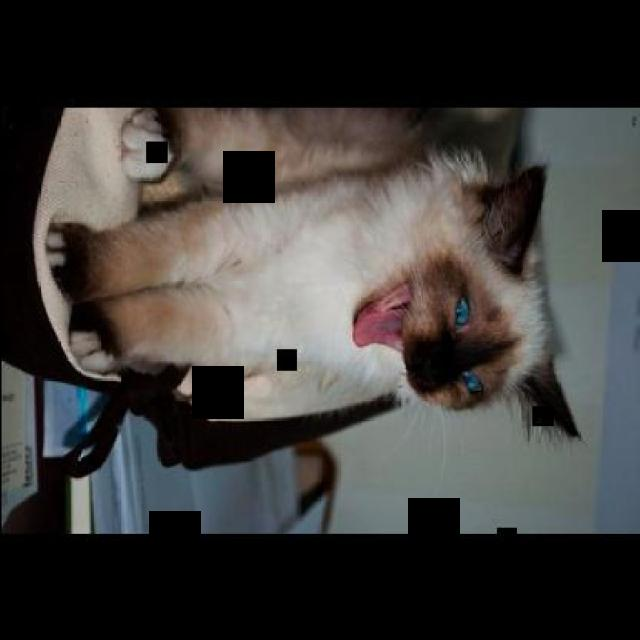unauthorized: (43, 109, 583, 448), (136, 106, 524, 214)
